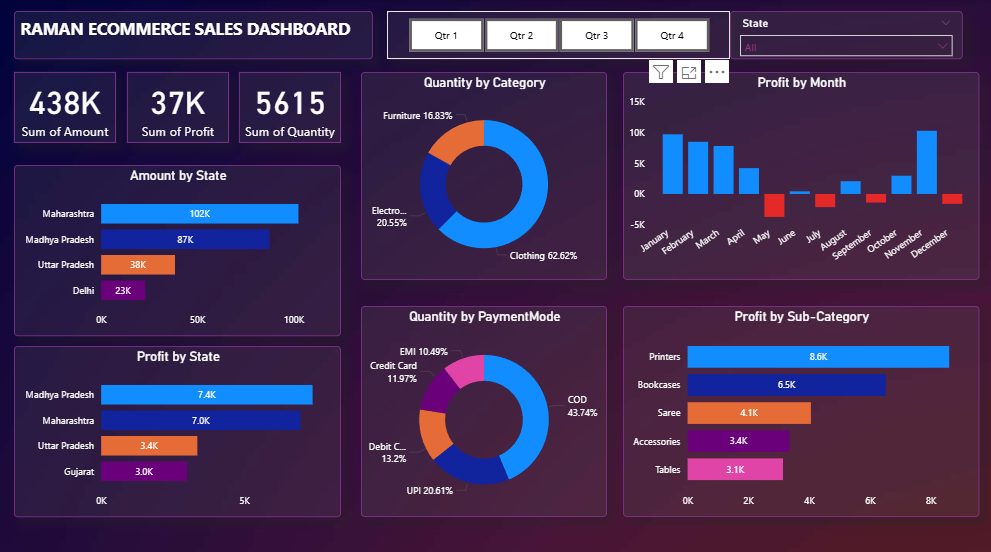

This screenshot's page, from the dashboard's own definition file:
{"tool":"powerbi","page":{"name":"Page 1","canvas":[1280,720],"ordinal":0},"visuals":[{"type":"textbox","box":[20.6,14.1,461.4,61.7],"z":0},{"type":"columnChart","title":"Profit by Month","fields":{"Y":["Details.Profit"],"Category":["Orders.Order Date.Variation.Date Hierarchy.Month"]},"box":[803.2,92.5,457.5,267.3],"z":1000},{"type":"barChart","title":"Profit by Sub-Category","fields":{"Y":["Details.Profit"],"Category":["Details.Sub-Category"]},"box":[803.2,393.3,457.5,271.2],"z":2000},{"type":"donutChart","title":"Quantity by Category","fields":{"Y":["Details.Quantity"],"Category":["Details.Category"]},"box":[466.5,92.5,316.1,267.3],"z":3000},{"type":"donutChart","title":"Quantity by PaymentMode","fields":{"Y":["Details.Quantity"],"Category":["Details.PaymentMode"]},"box":[466.5,393.3,316.1,271.2],"z":4000},{"type":"card","fields":{"Values":["Details.Quantity"]},"box":[309.7,92.5,131.1,91.2],"z":5000},{"type":"card","fields":{"Values":["Details.Amount"]},"box":[20.6,92.5,131.1,91.2],"z":6000},{"type":"card","fields":{"Values":["Details.Profit"]},"box":[165.8,92.5,131.1,91.2],"z":7000},{"type":"barChart","title":"Amount by State","fields":{"Y":["Details.Amount"],"Category":["Orders.State"]},"box":[20.6,212,420.2,219.8],"z":8000},{"type":"barChart","title":"Profit by State","fields":{"Y":["Details.Profit"],"Category":["Orders.State"]},"box":[20.6,444.7,420.2,219.8],"z":9000},{"type":"slicer","fields":{"Values":["Orders.Order Date.Variation.Date Hierarchy.Quarter"]},"box":[499.9,14.1,440.8,61.7],"z":10000},{"type":"slicer","fields":{"Values":["Orders.State"]},"box":[940.7,14.1,299.4,61.7],"z":11000}]}

Visuals, with their boxes in screenshot pixels (x1, y1, x2, y2), scaled from the page's 1280x720 canvas onto the 991x552 screenshot:
textbox: left=16, top=11, right=373, bottom=58
"Profit by Month" columnChart: left=622, top=71, right=976, bottom=276
"Profit by Sub-Category" barChart: left=622, top=302, right=976, bottom=509
"Quantity by Category" donutChart: left=361, top=71, right=606, bottom=276
"Quantity by PaymentMode" donutChart: left=361, top=302, right=606, bottom=509
card - Details.Quantity: left=240, top=71, right=341, bottom=141
card - Details.Amount: left=16, top=71, right=117, bottom=141
card - Details.Profit: left=128, top=71, right=230, bottom=141
"Amount by State" barChart: left=16, top=163, right=341, bottom=331
"Profit by State" barChart: left=16, top=341, right=341, bottom=509
slicer - Orders.Order Date.Variation.Date Hierarchy.Quarter: left=387, top=11, right=728, bottom=58
slicer - Orders.State: left=728, top=11, right=960, bottom=58
